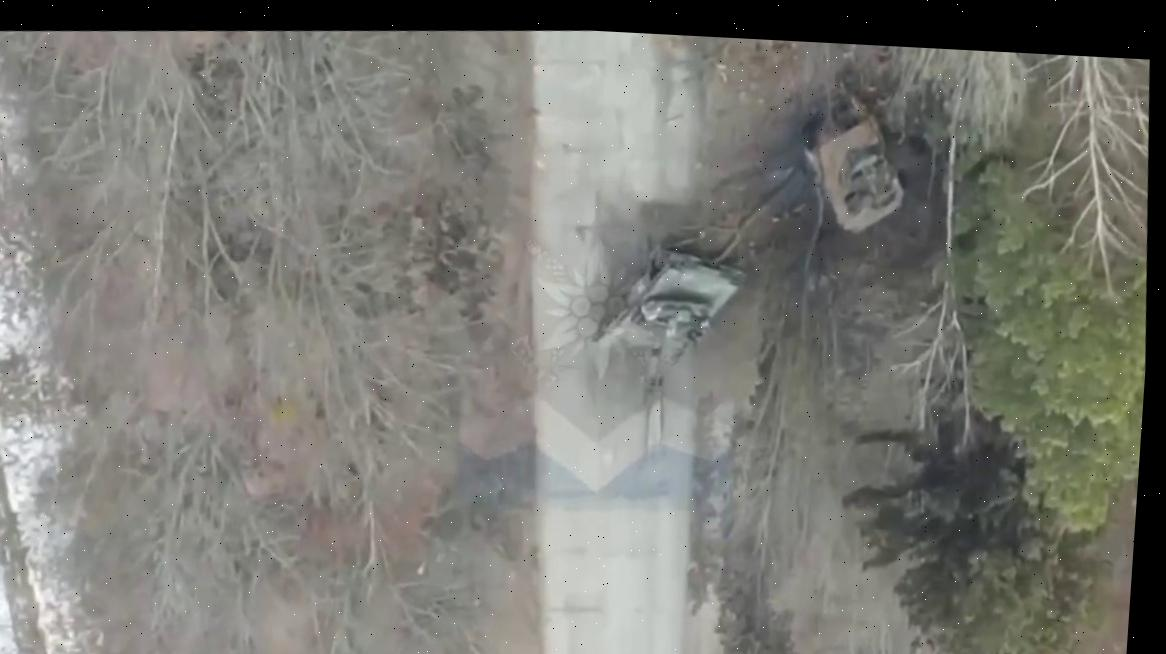tank: (583, 236, 757, 433), (788, 89, 917, 244)
